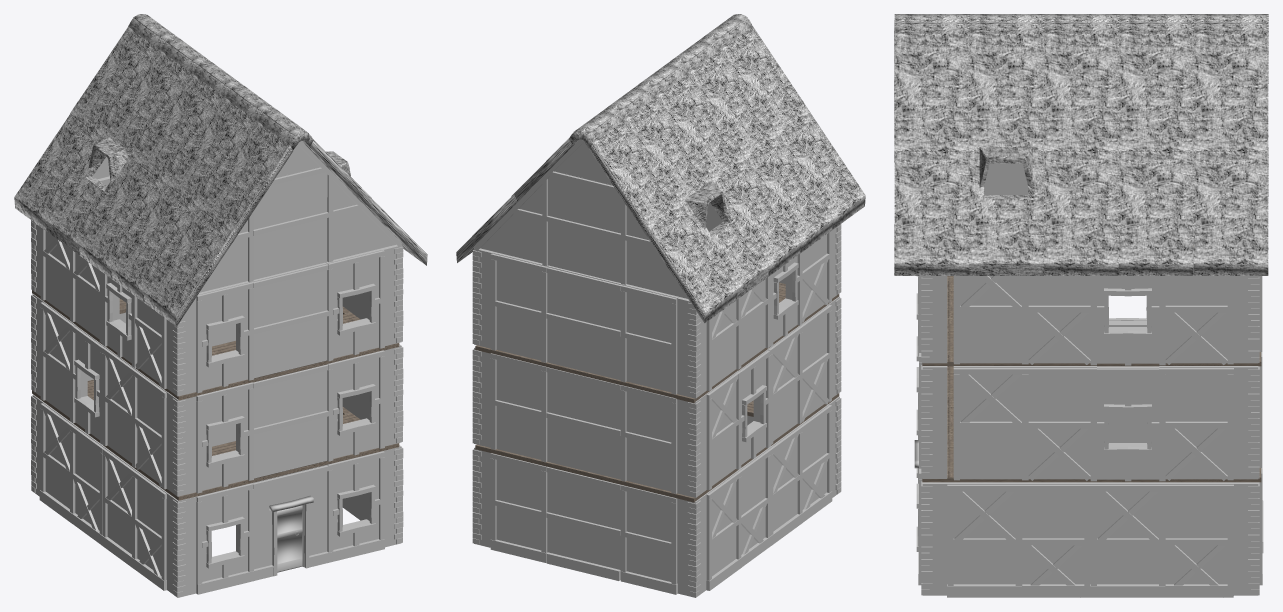
Rendered from house_4.fbx.
3 renders of one model, left to right at view 1: azimuth 30°, elevation 25°; view 2: azimuth 150°, elevation 25°; view 3: azimuth 270°, elevation 25°, orthographic. The views are drawn at different scales.
Visible parts, largest first — view 1: puerta_1.007, techo_paja_1x3.042, piso_4x4.003; view 2: puerta_1.007, techo_paja_1x3.042, piso_4x4.003; view 3: puerta_1.007, techo_paja_1x3.042, piso_4x4.003.
Part boxes in pixels (bbox=[...]): puerta_1.007: bbox=[31, 141, 403, 597]; techo_paja_1x3.042: bbox=[14, 14, 427, 326]; piso_4x4.003: bbox=[32, 290, 399, 500]; puerta_1.007: bbox=[472, 139, 841, 597]; techo_paja_1x3.042: bbox=[456, 14, 865, 323]; piso_4x4.003: bbox=[475, 282, 839, 502]; puerta_1.007: bbox=[914, 132, 1263, 597]; techo_paja_1x3.042: bbox=[894, 14, 1268, 275]; piso_4x4.003: bbox=[922, 245, 1261, 482].
Bounding box in the file's own units: 1347 × 2288 × 1501.
